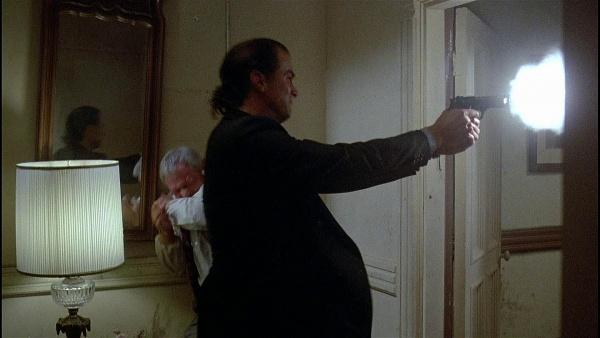Gun: (448, 94, 508, 120)
